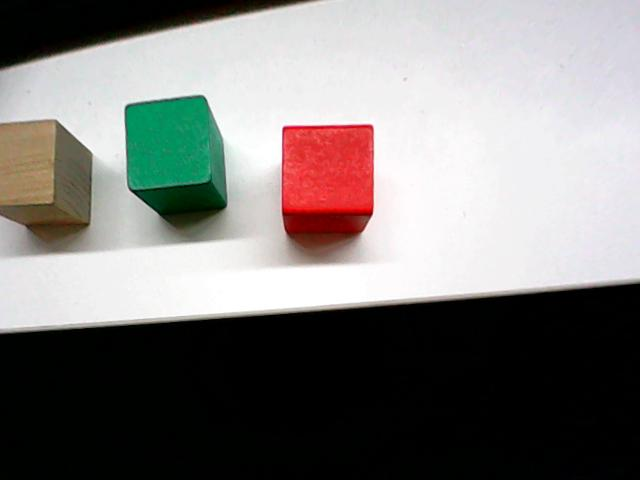green_box: (121, 90, 230, 220)
raw_box: (0, 115, 100, 235)
red_box: (277, 119, 378, 238)
